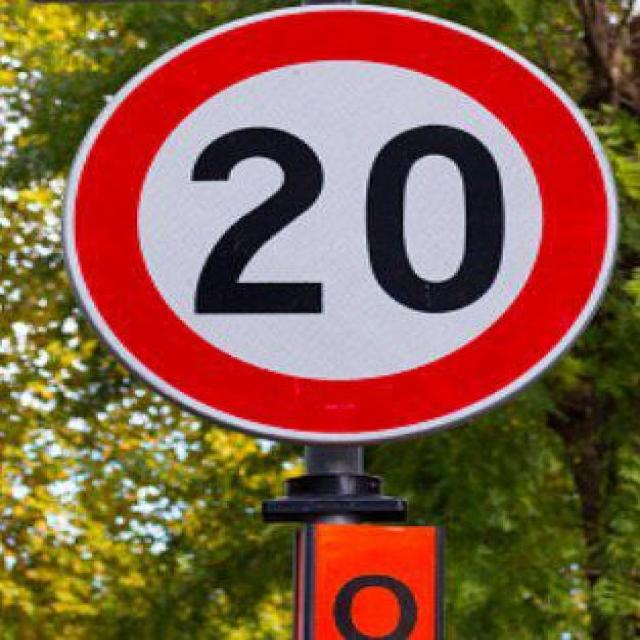speedlimit_20: (76, 10, 624, 435)
